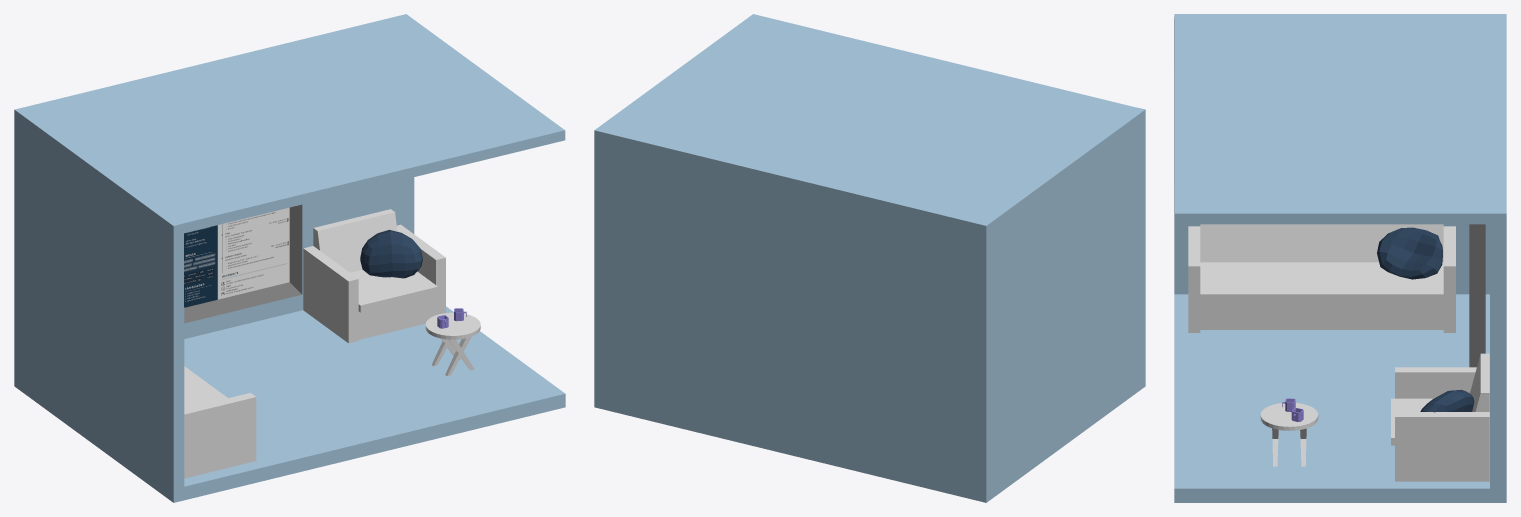
3 views of the same model, side by side, from view 1: azimuth 30°, elevation 25°; view 2: azimuth 150°, elevation 25°; view 3: azimuth 270°, elevation 25° (orthographic). The views are drawn at different scales.
Visible parts, largest first — view 1: Walls.3, Sofa2, Frame.CV, Sofa, Pillow2, Table; view 2: Walls.3; view 3: Walls.3, Sofa, Sofa2, Pilllow, Frame.CV, Table, Pillow2.
Boxes of the visible parts, box(x1,y1,x2,y2) form: Walls.3: box(14, 14, 565, 502); Sofa2: box(303, 209, 445, 343); Frame.CV: box(184, 204, 302, 323); Sofa: box(184, 366, 256, 478); Pillow2: box(360, 229, 422, 278); Table: box(425, 312, 480, 376); Walls.3: box(594, 14, 1145, 502); Walls.3: box(1174, 14, 1506, 502); Sofa: box(1188, 224, 1455, 332); Sofa2: box(1391, 353, 1489, 481); Pilllow: box(1377, 227, 1442, 279); Frame.CV: box(1469, 224, 1485, 367); Table: box(1260, 403, 1318, 466); Pillow2: box(1420, 389, 1474, 412).
Size of the model in its own units: 6 by 4.05 by 4.22.
Materials: 11 (1 with a texture image).
